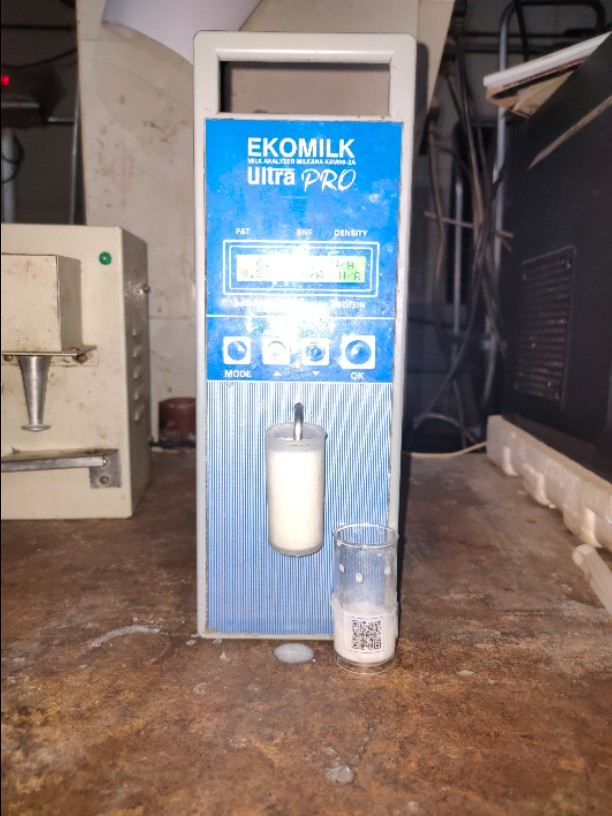lcd: (231, 248, 370, 287)
qr: (349, 615, 385, 656)
